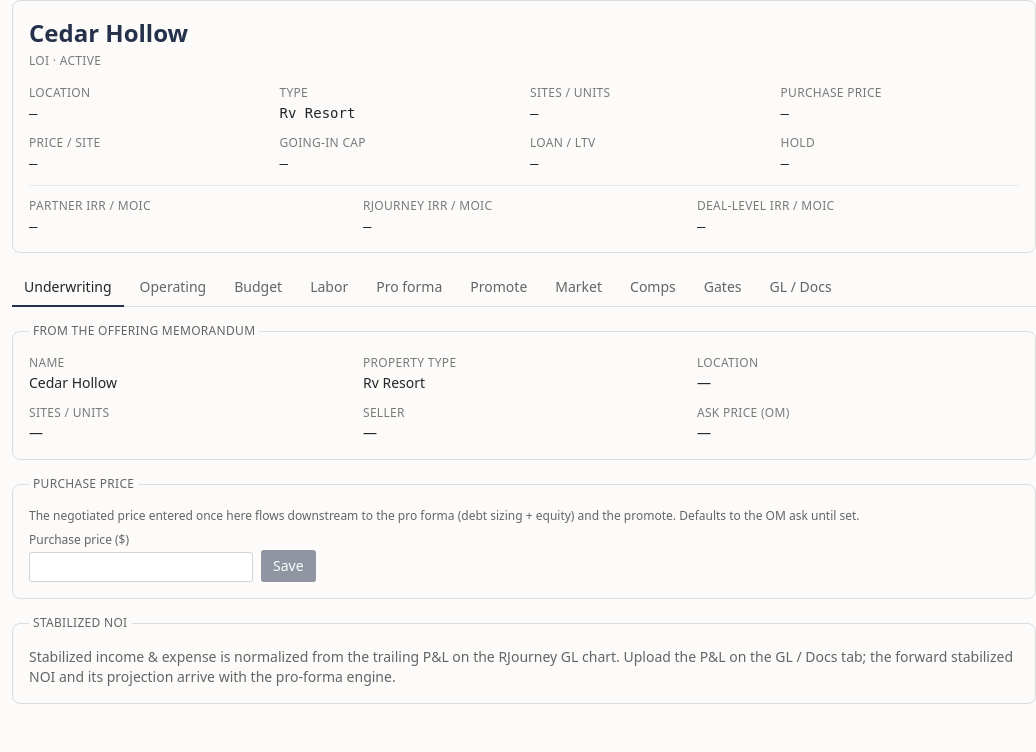
Scenario: AcquisitionDetail › switches to the Pro forma tab and renders rows
Click the tab "Pro forma": (409, 288) [364,269,454,307]
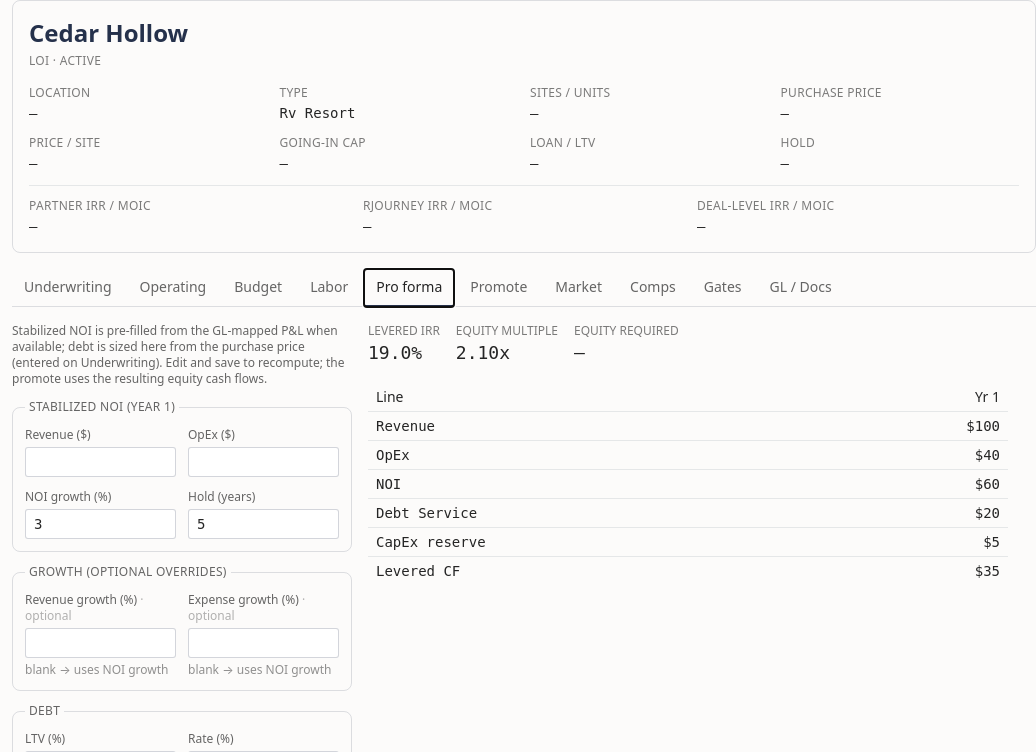
Expected: the text "Levered CF" is shown, [368,556,826,585]
